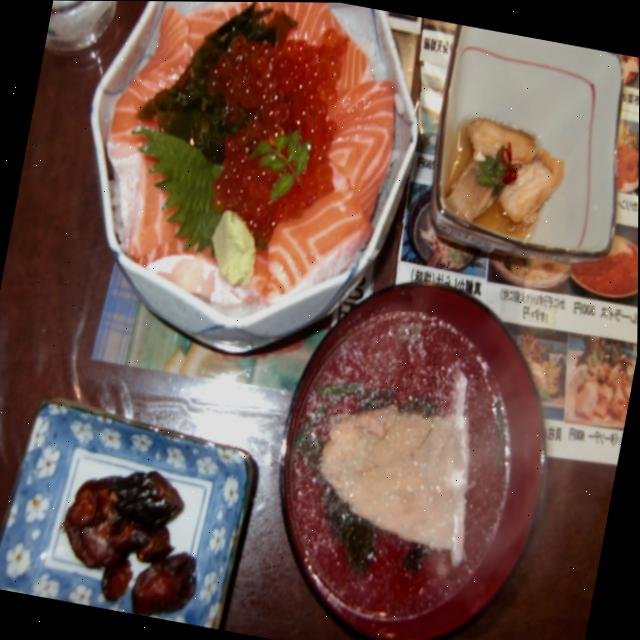刺身生食: (49, 0, 443, 355)
